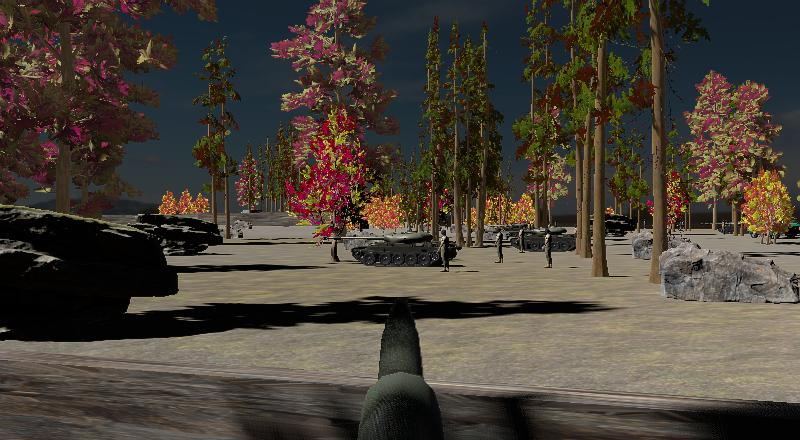Tank: (315, 228, 451, 269), (515, 223, 581, 253)
